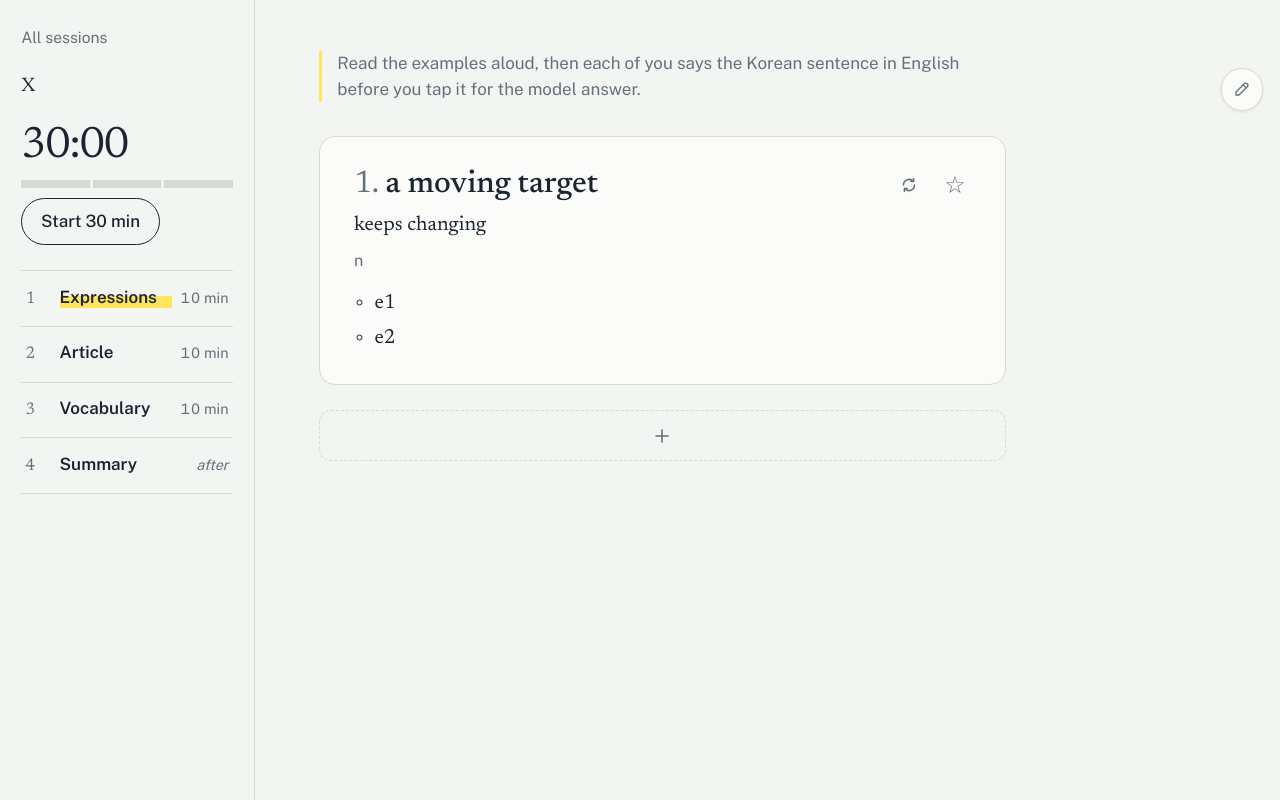
Test: SessionPage › adds the expression the server picked after the others
Click the button named "Add another expression" at (662, 436), box [319, 410, 1006, 461]
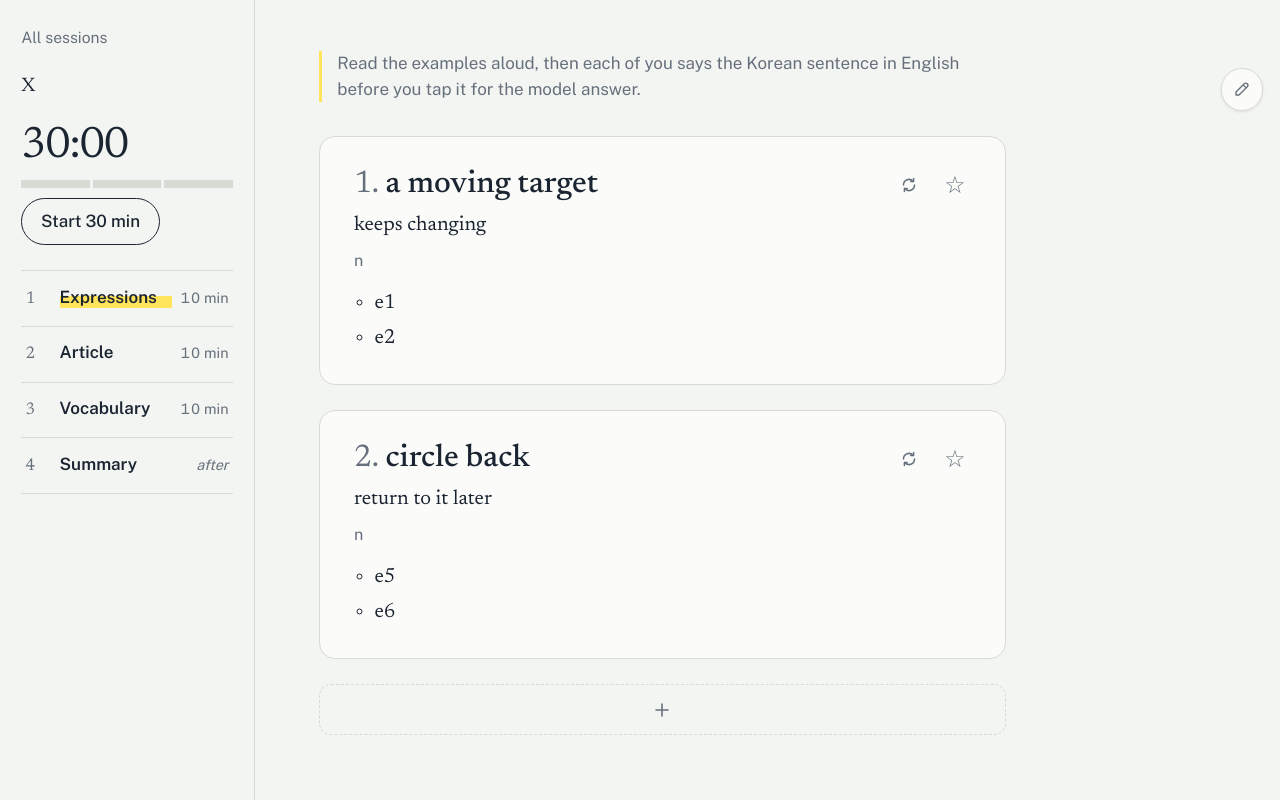
Expected: the heading "a moving target" is shown, [385, 169, 598, 200]
Result: the heading "circle back" is shown at [385, 443, 530, 474]
